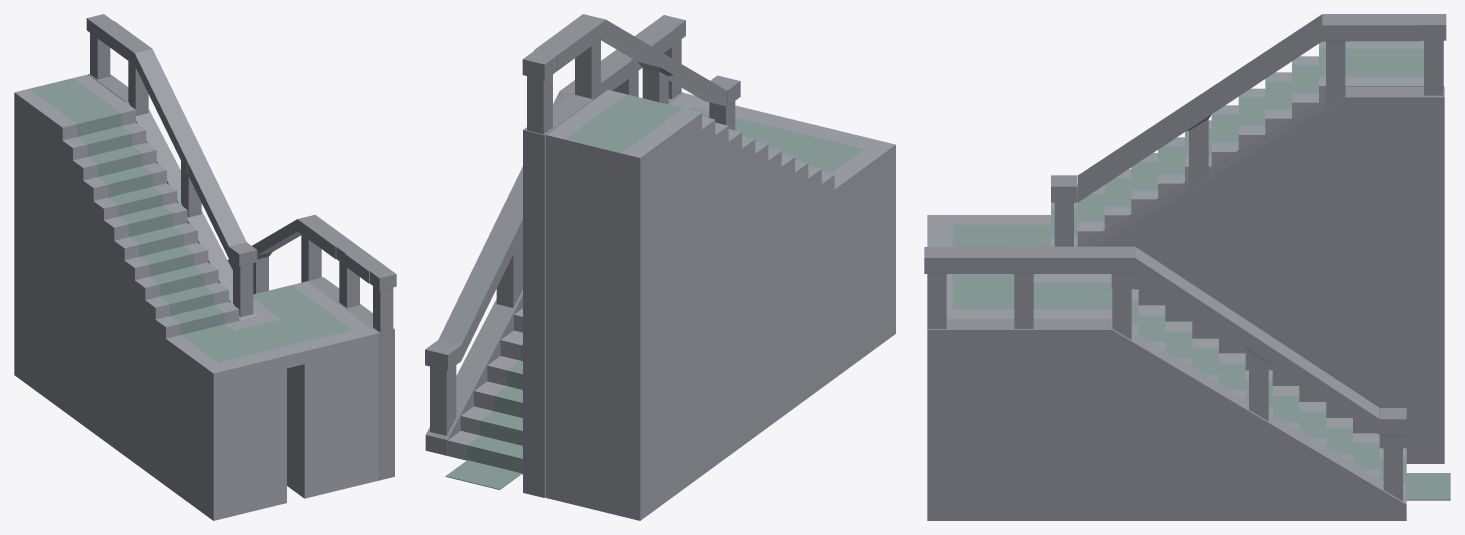
Rendered from stairs.fbx.
3 renders of one model, left to right at view 1: azimuth 30°, elevation 25°; view 2: azimuth 150°, elevation 25°; view 3: azimuth 270°, elevation 25°, orthographic. The views are drawn at different scales.
Parts seen in each view (by area): view 1: stairs1, stairs, pCube1 (×2), railingB01 (×2), railingA03 (×2), railingA04 (×2), railingA02 (×2), pCube2 (×2), railingA01, railingA05, pCube3; view 2: stairs1, pCube1 (×2), stairs, railingB01 (×2), railingA01 (×2), railingA02 (×2), railingA04 (×2), pCube2 (×2), railingA03, railingA05, pCube3; view 3: pCube1 (×2), stairs1, stairs, railingB01 (×2), pCube2 (×2), railingA02 (×2), railingA03 (×2), railingA04 (×2), railingA01 (×2), railingA05, pCube3.
Boxes of the visible parts, x1,y1,x2,y2 form: stairs1: (14,74,286,520); stairs: (239,281,377,498); pCube1 (×2): (88,74,394,480); railingB01 (×2): (134,49,301,269); railingA03 (×2): (124,41,325,282); railingA04 (×2): (86,14,362,307); railingA02 (×2): (177,136,272,294); pCube2 (×2): (96,21,352,259); railingA01: (229,242,257,317); railingA05: (370,267,396,332); pCube3: (345,250,386,283); stairs1: (546,90,895,520); pCube1 (×2): (425,92,684,497); stairs: (445,93,800,489); railingB01 (×2): (438,20,726,360); railingA01 (×2): (425,75,740,435); railingA02 (×2): (491,52,673,307); railingA04 (×2): (522,49,642,134); pCube2 (×2): (534,23,631,94); railingA03: (570,14,605,99); railingA05: (652,15,685,99); pCube3: (634,24,674,53); pCube1 (×2): (927,86,1444,520); stairs1: (927,40,1443,246); stairs: (946,274,1450,500); railingB01 (×2): (1078,14,1379,434); pCube2 (×2): (1036,14,1421,273); railingA02 (×2): (1185,87,1272,421); railingA03 (×2): (1108,14,1349,339); railingA04 (×2): (1011,14,1446,328); railingA01 (×2): (1051,175,1406,501); railingA05: (924,247,949,328); pCube3: (949,246,1011,273).
Size of the model in its own units: 863 by 1533 by 1667.
